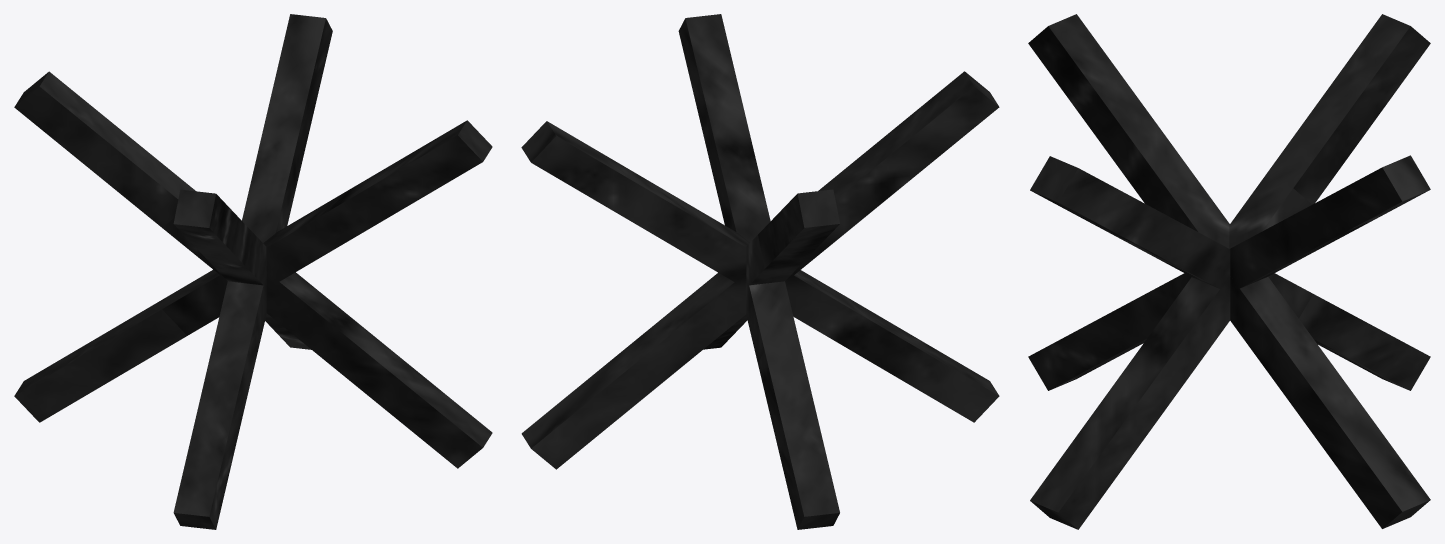
Rendered from tank_trap.glb.
The picture shows the model from 3 angles, left to right: view 1: azimuth 30°, elevation 25°; view 2: azimuth 150°, elevation 25°; view 3: azimuth 270°, elevation 25°; orthographic projection. The views are drawn at different scales.
Parts seen in each view (by area): view 1: base; view 2: base; view 3: base.
Part boxes in pixels (x1,y1,x2,y2): base: (14, 14, 492, 529); base: (521, 14, 999, 529); base: (1028, 14, 1430, 529).
Size of the model in its own units: 10.45 by 10.5 by 10.5.
Materials: 1 (1 with a texture image).
